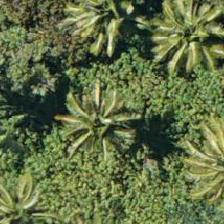coconut_tree: (59, 69, 149, 159), (135, 0, 223, 69), (0, 167, 56, 223)
